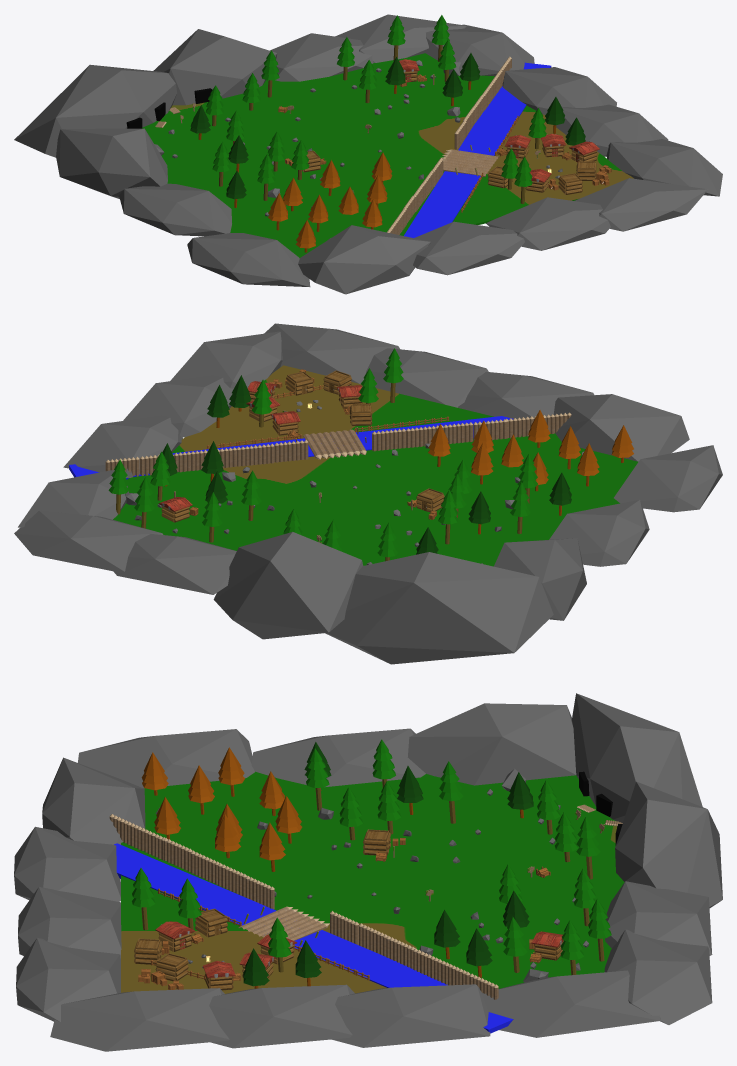
The model's file is MAP.fbx.
3 views of the same model, one above another, from view 1: azimuth 30°, elevation 25°; view 2: azimuth 150°, elevation 25°; view 3: azimuth 270°, elevation 25° (orthographic). The views are drawn at different scales.
Visible parts, largest first — view 1: MAP, Rock_001__10_, Rock_001__13_, Rock_001__23_, Rock_001__11_, water, Rock_001__18_, Rock_001__17_, Rock_001__26_, Rock_001__22_, Rock_001__24_, Rock_001__25_ (+10 smaller); view 2: MAP, Rock_001__10_, Rock_001__11_, Rock_001__23_, Rock_001__16_, Rock_001__18_, Rock_001__12_, Rock_001__26_, Rock_001__17_, Rock_001__13_, Rock_001__25_, Rock_001__22_ (+20 smaller); view 3: MAP, Rock_001__13_, Rock_001__10_, Rock_001__11_, Rock_001__22_, Rock_001__20_, Rock_001__19_, water, Rock_001__21_, Rock_001__16_, Rock_001__18_, Rock_001__23_ (+52 smaller).
Boxes of the visible parts, x1,y1,x2,y2 form: MAP: (142, 53, 633, 258); Rock_001__10_: (14, 64, 176, 157); Rock_001__13_: (56, 128, 167, 198); Rock_001__23_: (298, 225, 430, 294); Rock_001__11_: (153, 29, 277, 105); water: (404, 62, 551, 238); Rock_001__18_: (187, 233, 310, 286); Rock_001__17_: (119, 183, 231, 236); Rock_001__26_: (574, 178, 707, 231); Rock_001__22_: (606, 139, 722, 196); Rock_001__24_: (413, 221, 524, 275); Rock_001__25_: (486, 197, 610, 250); MAP: (113, 365, 638, 566); Rock_001__10_: (325, 552, 553, 664); Rock_001__11_: (213, 532, 363, 639); Rock_001__23_: (553, 394, 689, 461); Rock_001__16_: (14, 510, 163, 572); Rock_001__18_: (614, 445, 722, 512); Rock_001__12_: (113, 534, 236, 594); Rock_001__26_: (264, 323, 399, 383); Rock_001__17_: (549, 499, 649, 566); Rock_001__13_: (494, 538, 586, 620); Rock_001__25_: (365, 348, 488, 407); Rock_001__22_: (170, 331, 282, 389); MAP: (121, 771, 624, 993); Rock_001__13_: (407, 703, 576, 785); Rock_001__10_: (572, 693, 702, 822); Rock_001__11_: (615, 781, 722, 907); Rock_001__22_: (50, 988, 229, 1051); Rock_001__20_: (331, 984, 490, 1047); Rock_001__19_: (482, 970, 661, 1037); water: (114, 843, 513, 1033); Rock_001__21_: (209, 984, 354, 1048); Rock_001__16_: (604, 929, 712, 1024); Rock_001__18_: (78, 729, 254, 788); Rock_001__23_: (42, 757, 145, 844).
Size of the model in its own units: 27220 by 5001 by 26060.
